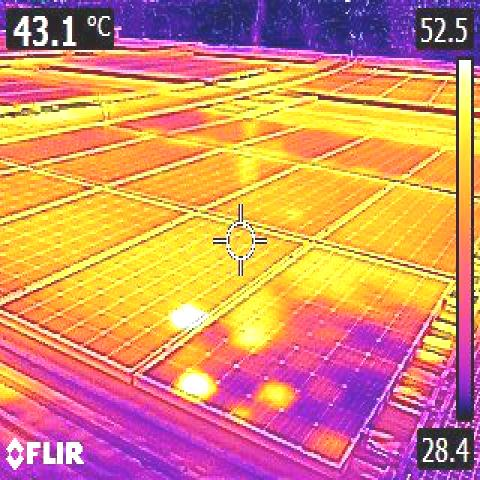fault: (174, 304, 197, 326), (184, 373, 208, 394), (263, 384, 288, 404)
